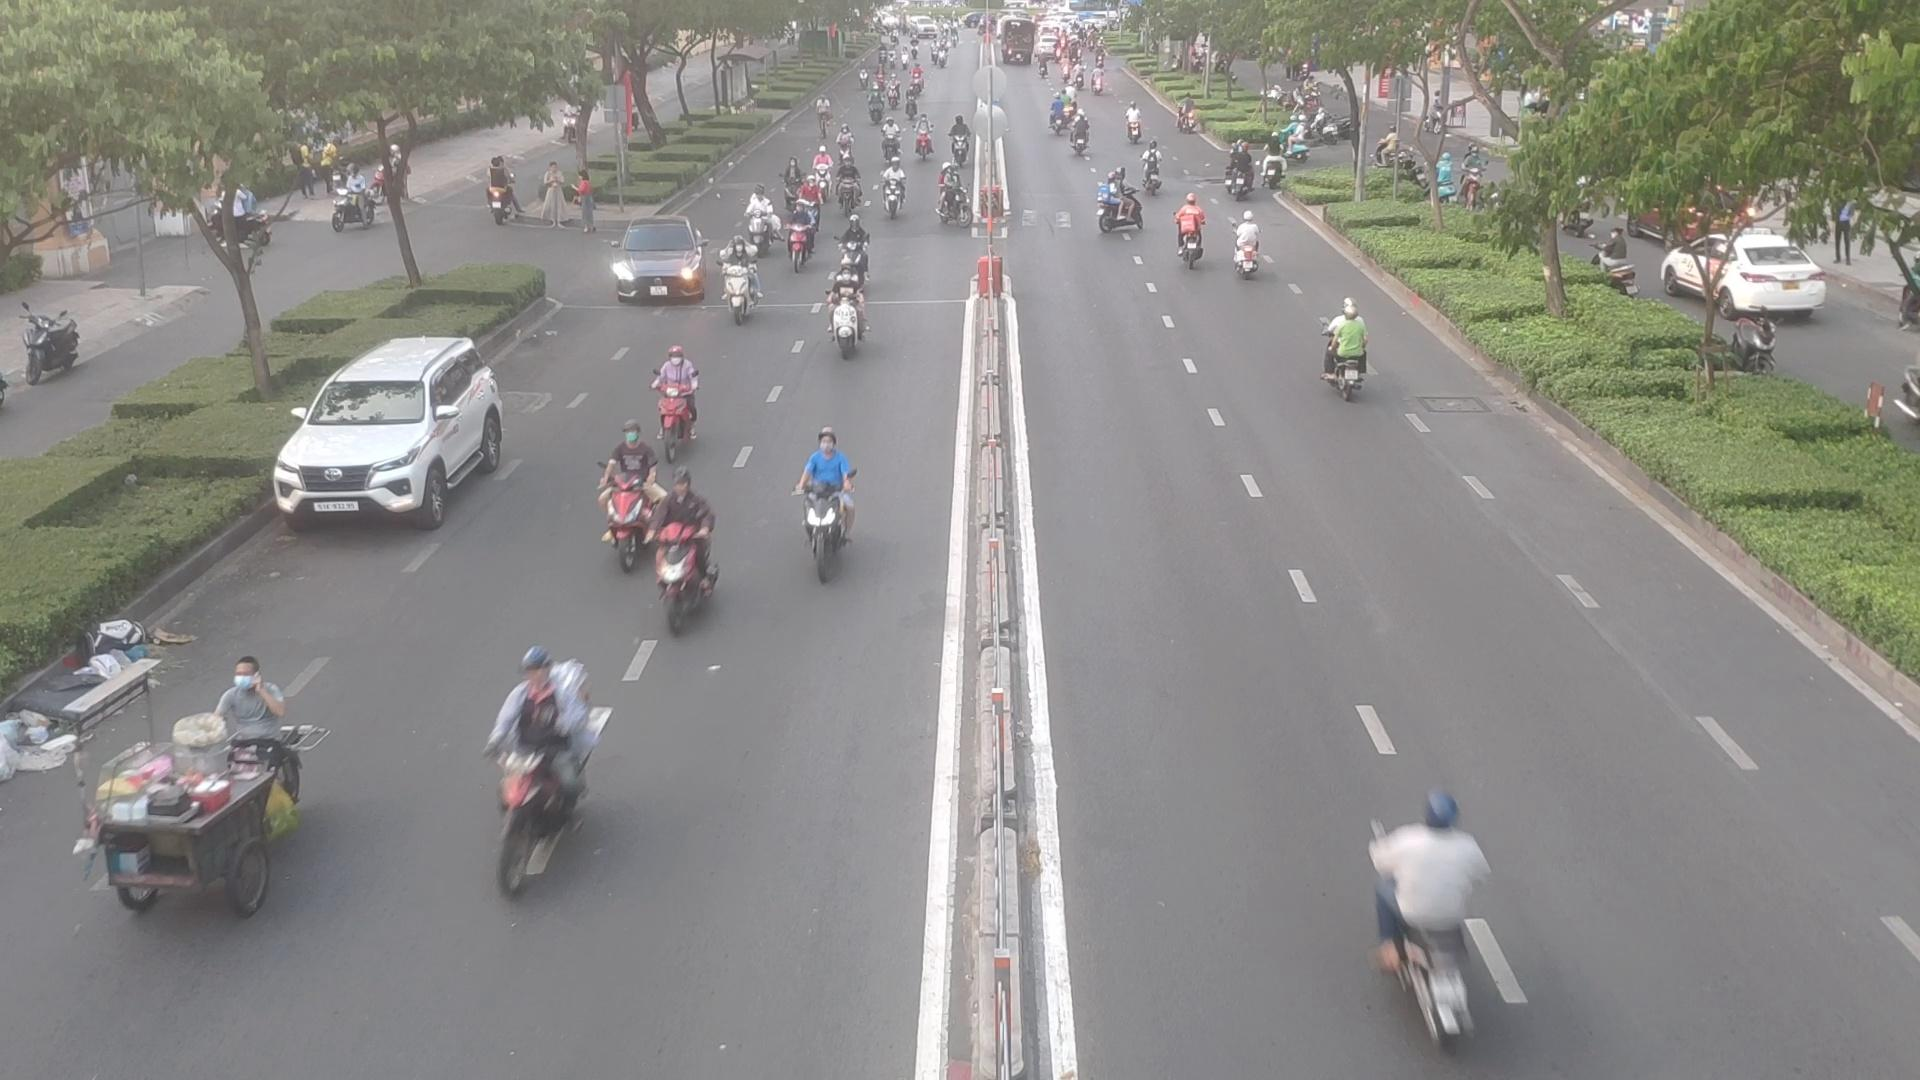car: (272, 342, 520, 524), (607, 237, 708, 305)
motorbike: (1354, 790, 1487, 1047), (473, 651, 611, 877), (651, 467, 724, 640), (795, 447, 861, 582), (597, 446, 657, 578), (640, 352, 705, 448), (1319, 310, 1385, 405), (824, 287, 870, 359), (1093, 175, 1138, 233), (723, 266, 764, 326), (1236, 222, 1274, 281), (1172, 207, 1208, 269), (738, 193, 782, 243), (1139, 142, 1172, 189), (789, 224, 819, 272), (1226, 162, 1259, 203), (1051, 105, 1083, 138), (1126, 108, 1153, 142)
